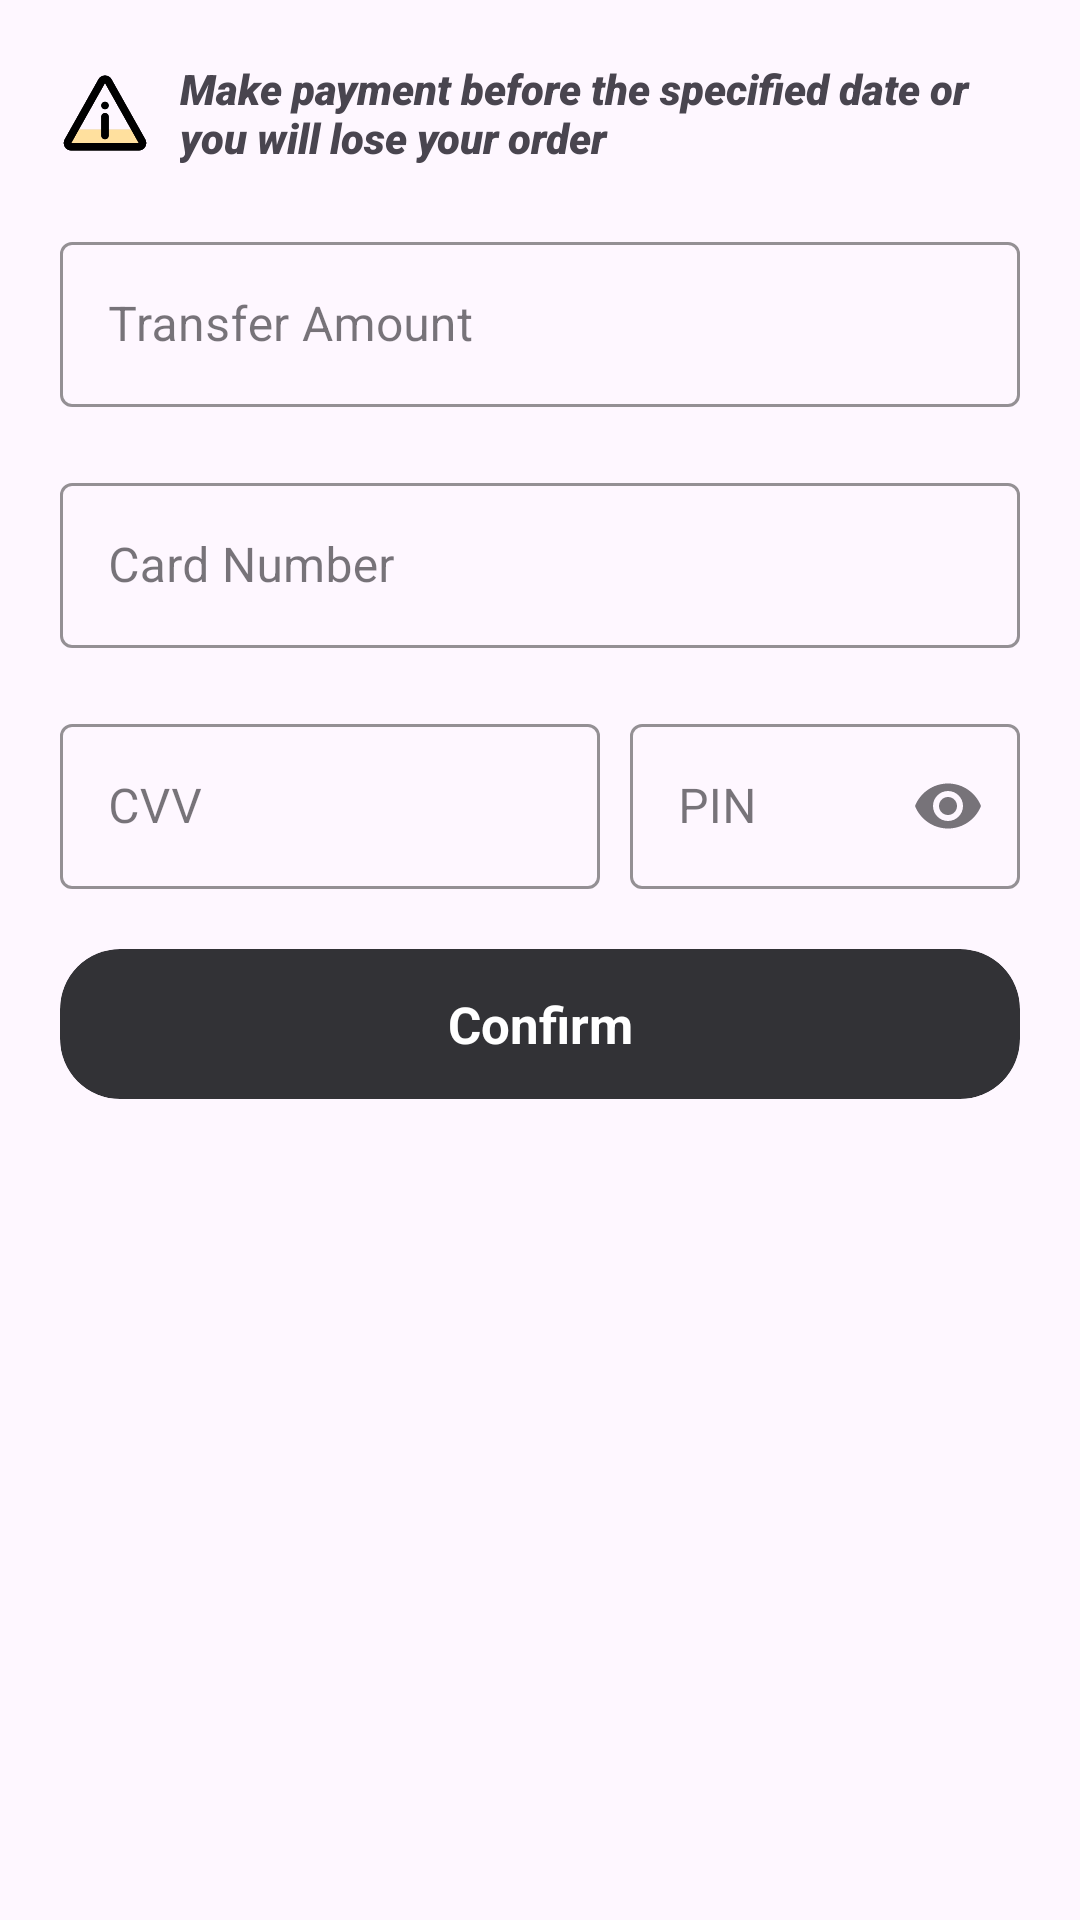

Point at icon controls on the screen. Image size 1080x1920, points as (x=x, y=y).
alert: (x=105, y=113)
